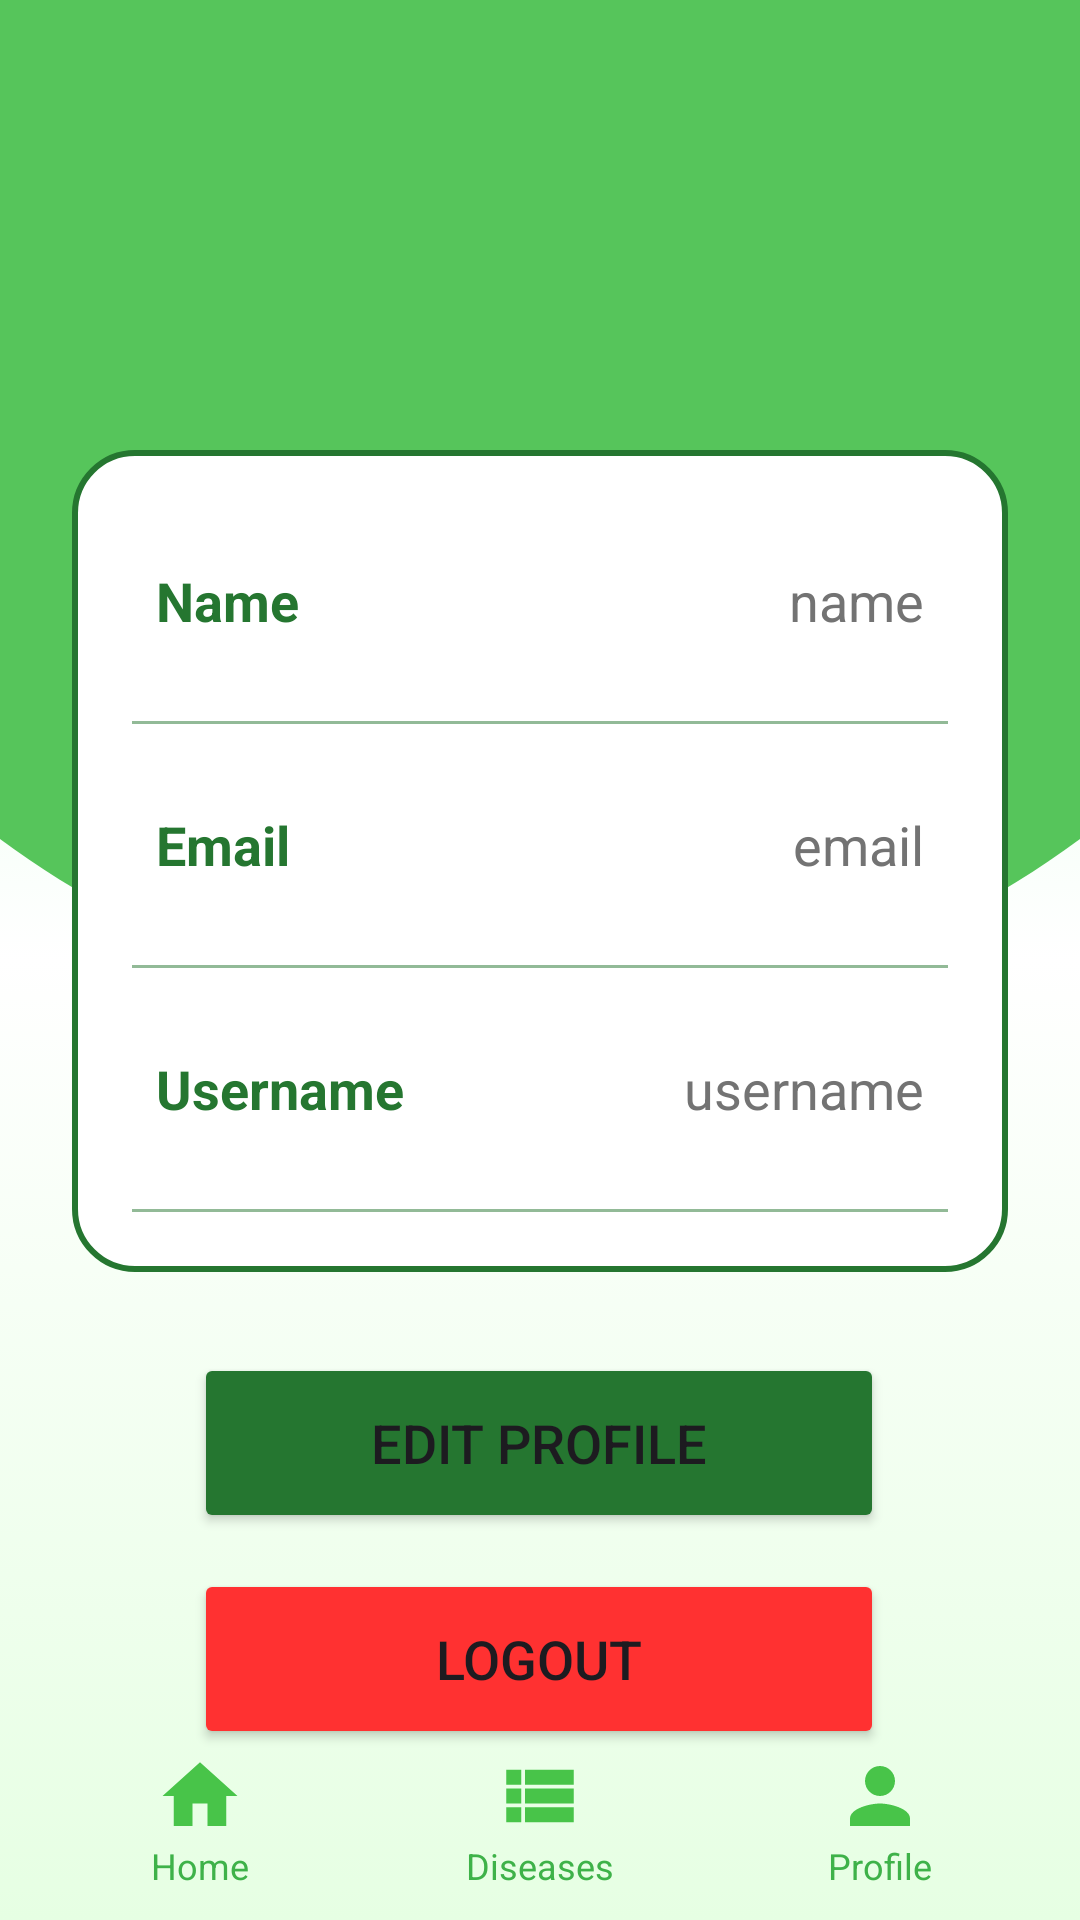

Screen size 1080*1920. Icon name, then its center in pixels as [x,y]:
person: [880,1796]
view list: [540,1796]
